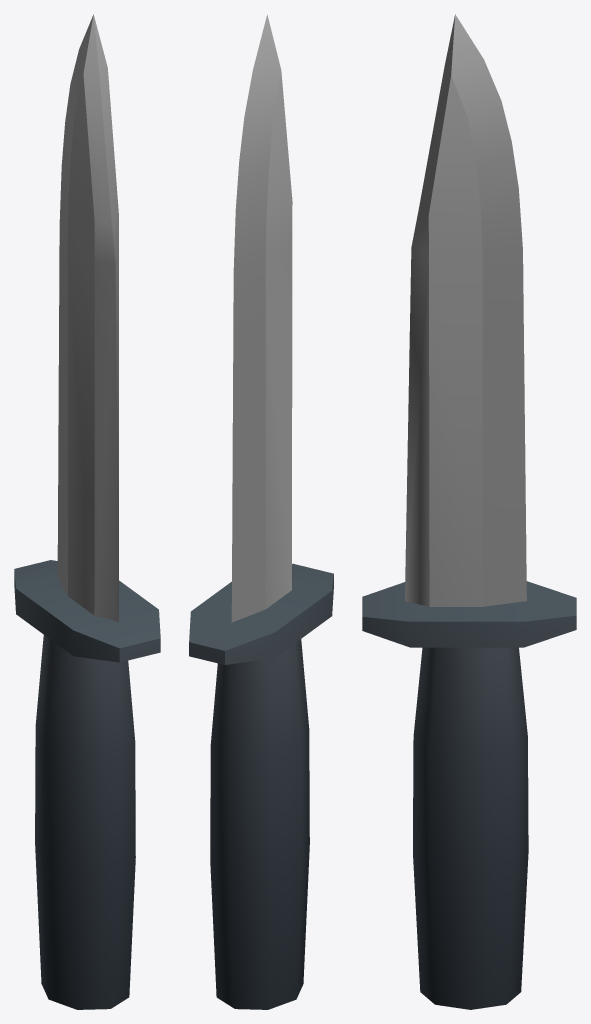
Rendered from Weapon_3.fbx.
3 renders of one model, left to right at view 1: azimuth 30°, elevation 25°; view 2: azimuth 150°, elevation 25°; view 3: azimuth 270°, elevation 25°, orthographic.
Parts seen in each view (by area): view 1: Weapon_3; view 2: Weapon_3; view 3: Weapon_3.
Boxes of the visible parts, x1,y1,x2,y2 form: Weapon_3: (14,14,160,1009); Weapon_3: (189,14,333,1009); Weapon_3: (362,14,576,1009).
Bounding box in the file's own units: 0.0474 × 0.1034 × 0.52.
